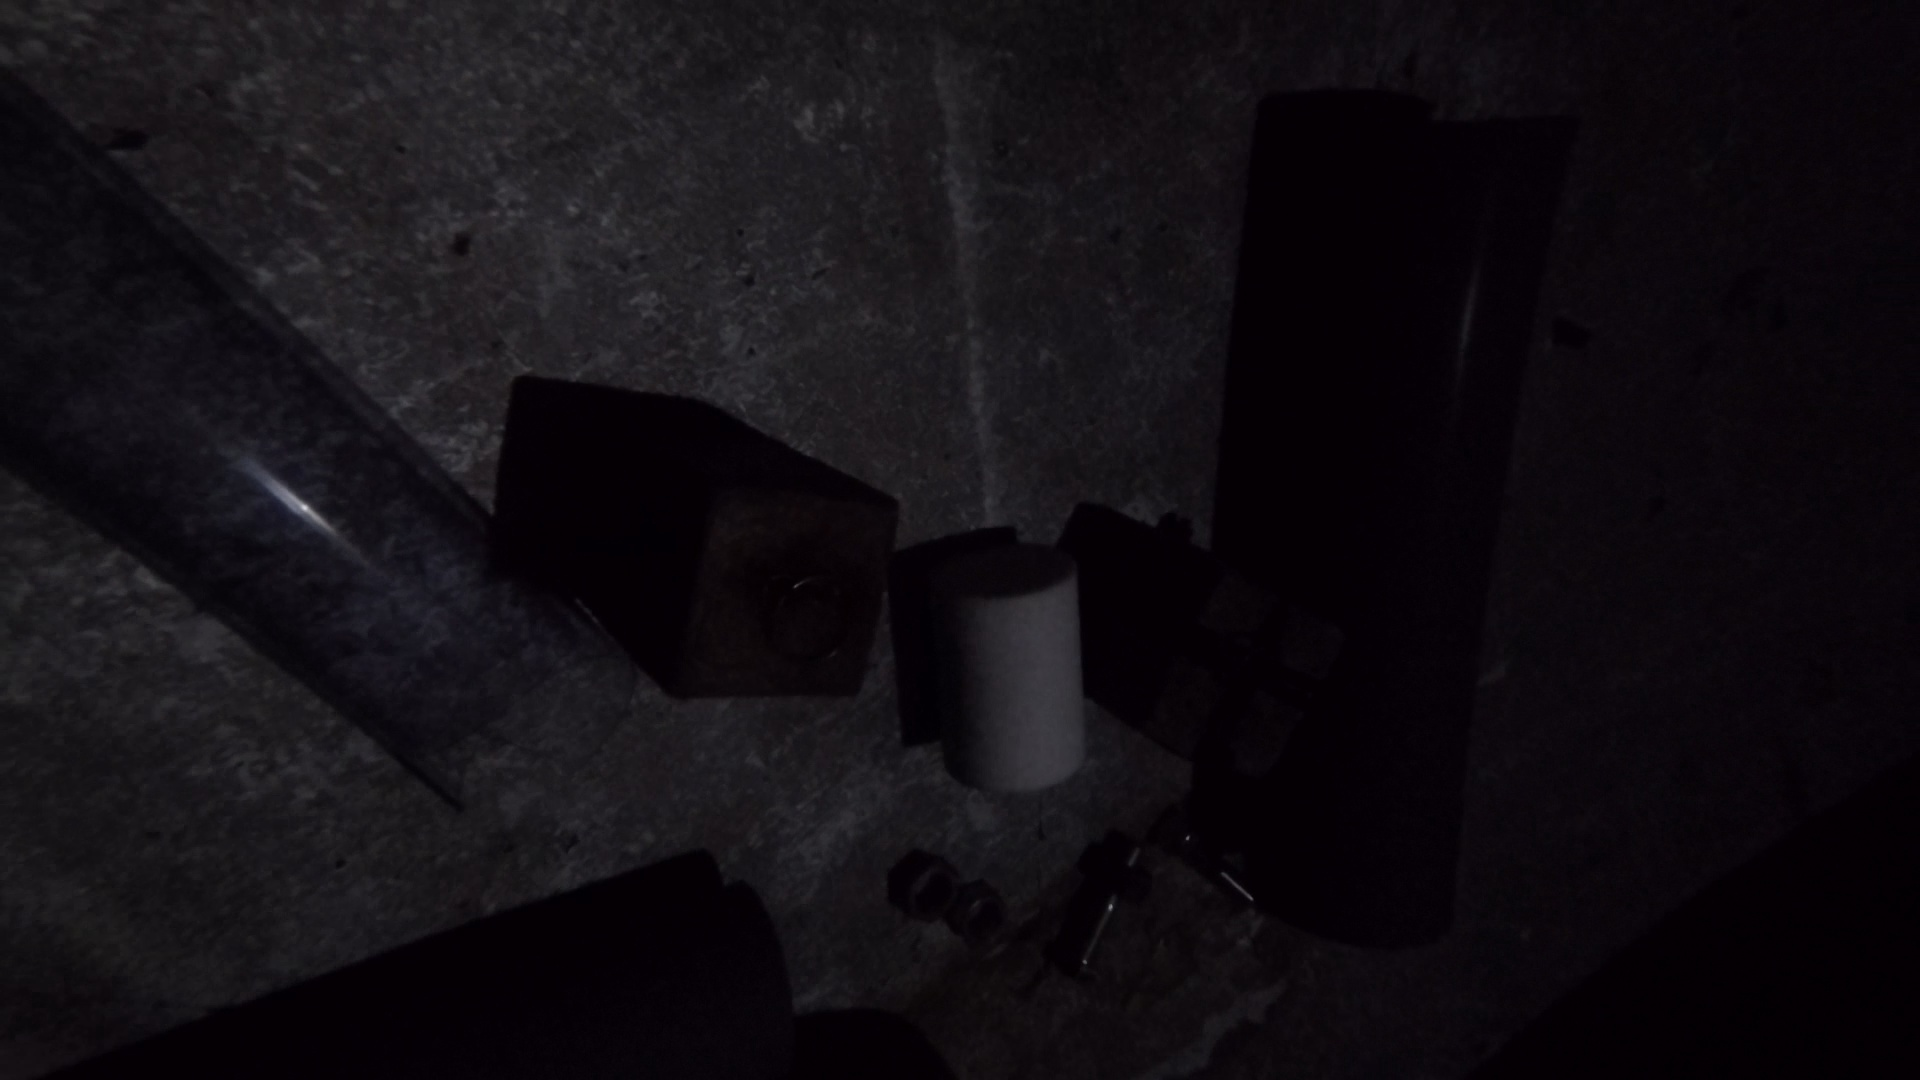bolt: (1046, 837, 1145, 986), (1158, 808, 1257, 907)
led_block: (504, 372, 905, 703), (1068, 504, 1342, 781)
nut: (893, 851, 957, 924), (951, 880, 1009, 945), (1083, 848, 1153, 901)
pipe: (1, 71, 640, 828), (1257, 104, 1584, 943), (123, 880, 793, 1080), (930, 542, 1080, 796)
